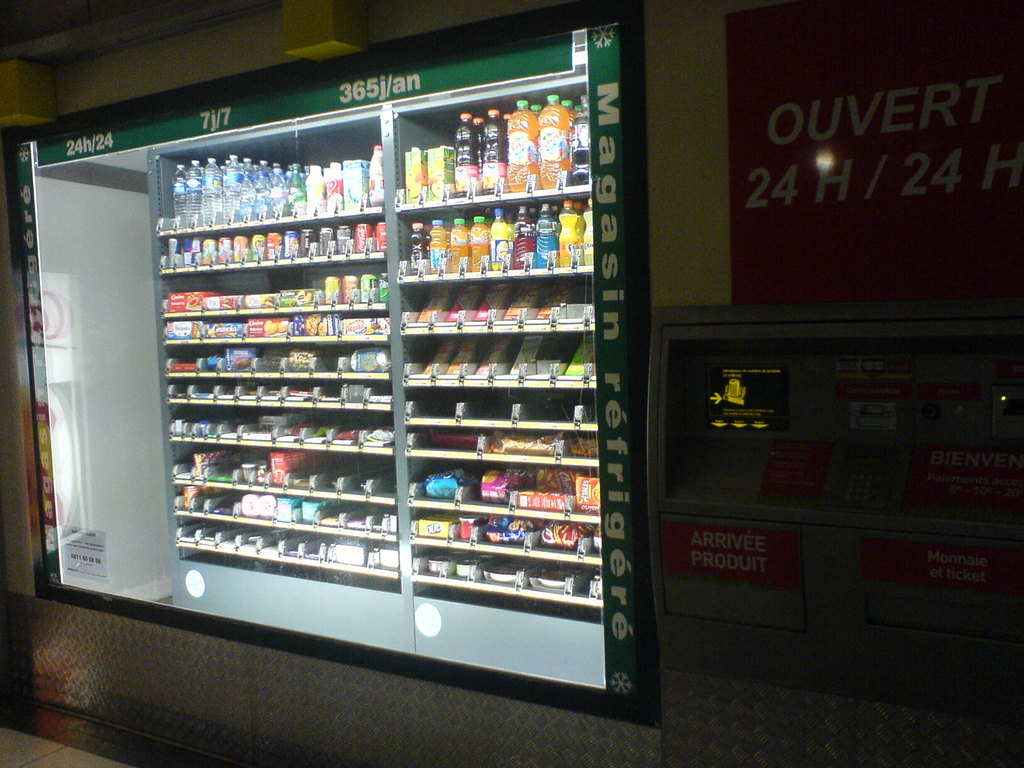can: (171, 94, 592, 275)
